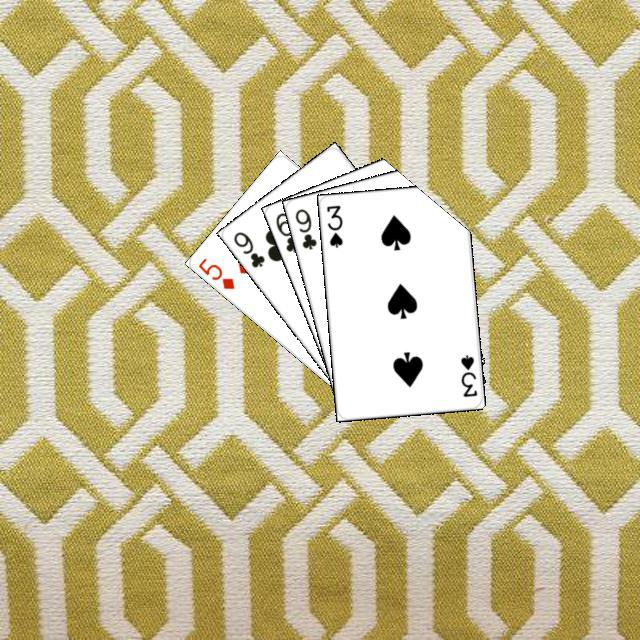3s: (455, 350, 479, 399), (322, 200, 344, 249)
5d: (193, 253, 236, 291)
6c: (271, 208, 302, 254)
9c: (228, 226, 266, 269), (290, 204, 318, 251)
